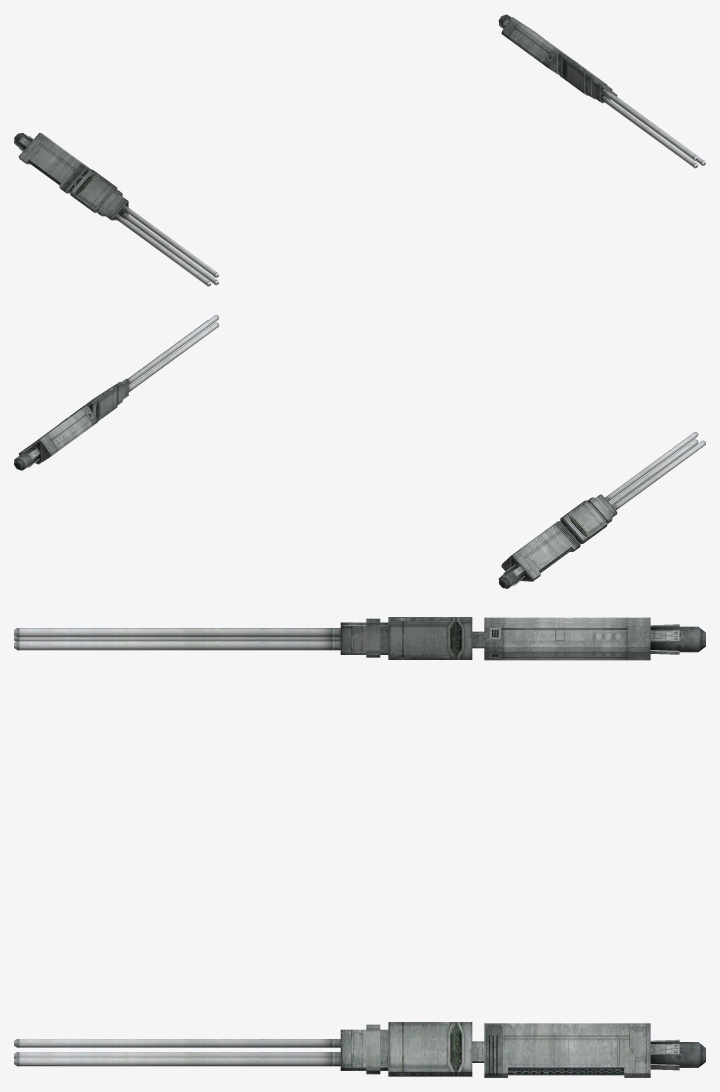
File: hutt_fighter_medium_weapon1_s04_l0.fbx
3 renders of one model, top to bottom at view 1: azimuth 30°, elevation 25°; view 2: azimuth 150°, elevation 25°; view 3: azimuth 270°, elevation 25°, orthographic. The views are drawn at different scales.
Parts seen in each view (by area): view 1: mesh_node; view 2: mesh_node; view 3: mesh_node.
Boxes of the visible parts, x1,y1,x2,y2 form: mesh_node: (14,14,705,286); mesh_node: (14,315,705,588); mesh_node: (14,617,705,1077).
Bounding box in the file's own units: 13.8 × 0.6447 × 9.14.
